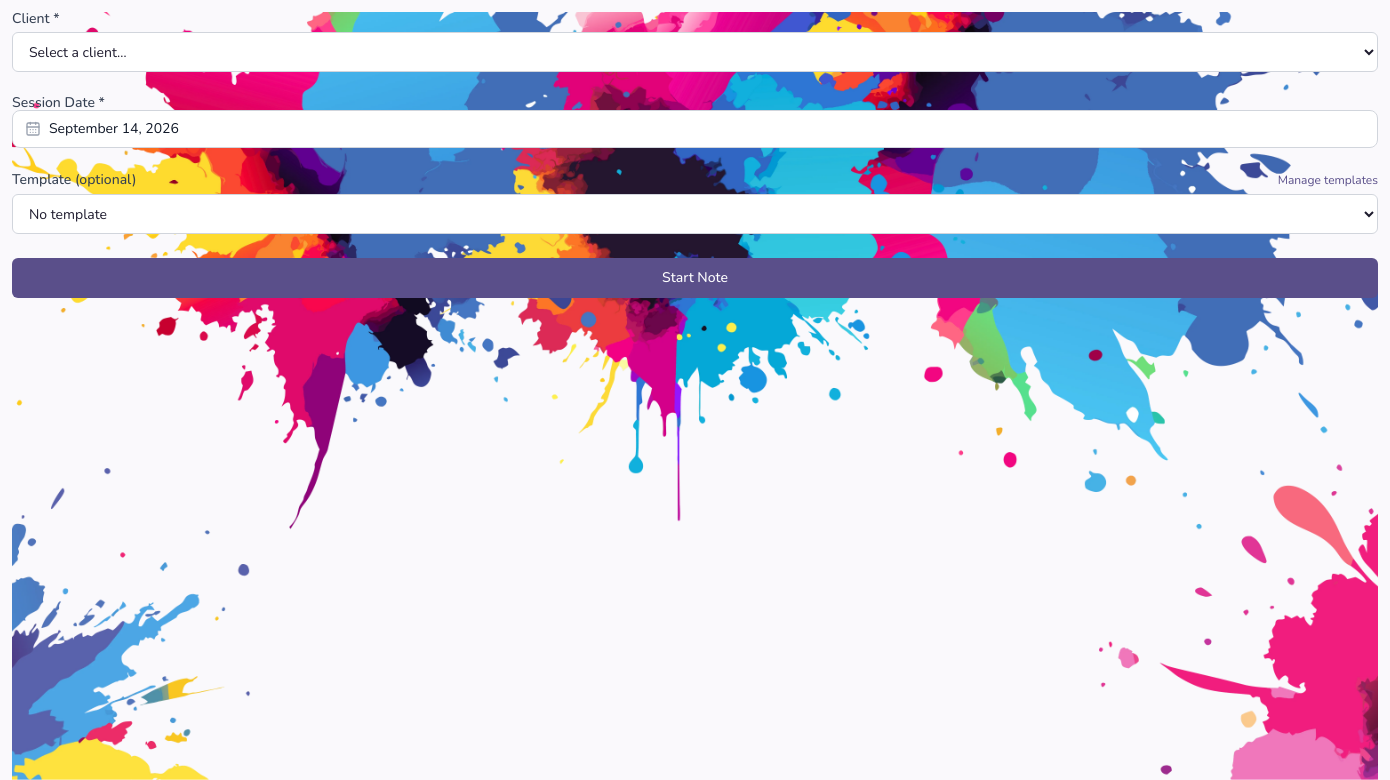
NewNoteForm › validation › shows required error when no client is selected on submit
The width and height of the screenshot is (1390, 780).
Click the button "Start Note": (695, 278) [12,258,1378,298]
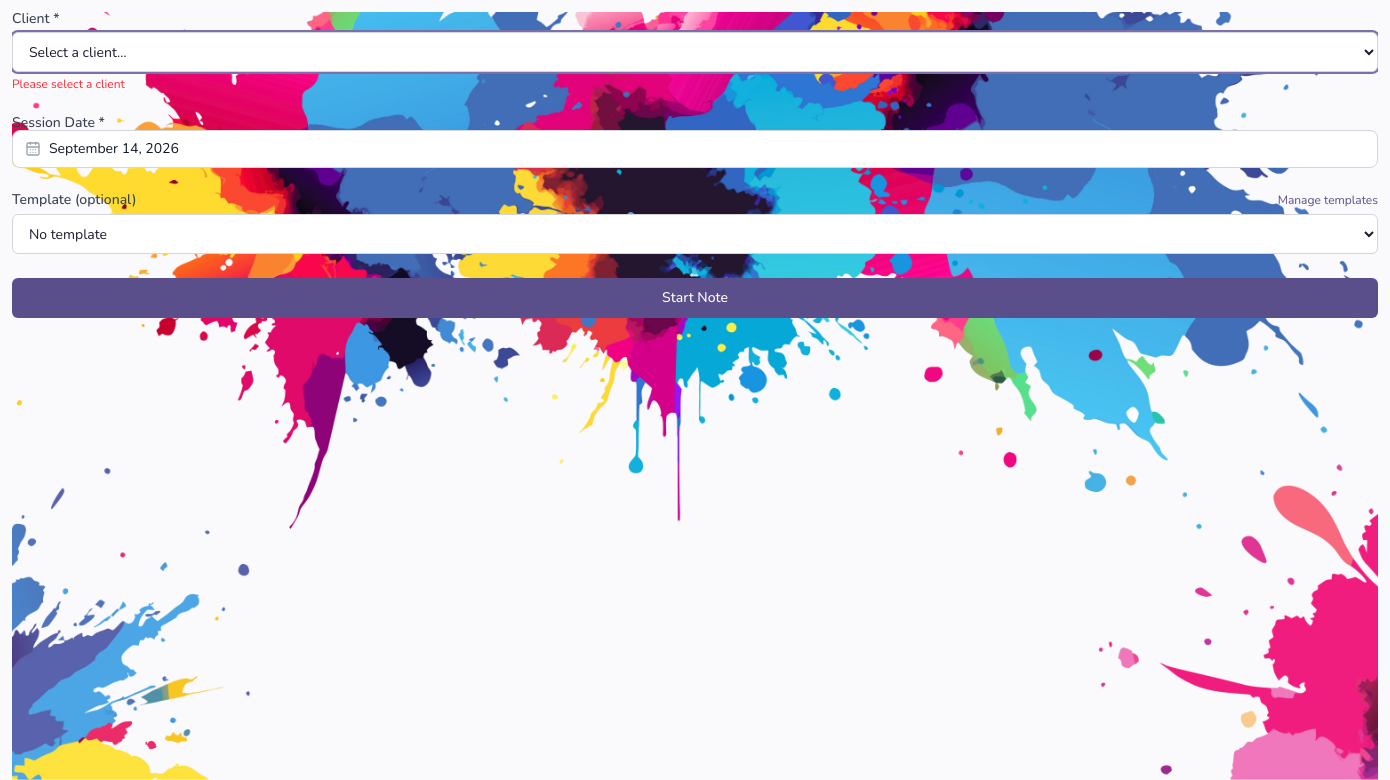
Result: the text "Please select a client" is shown at [12,76,125,92]
